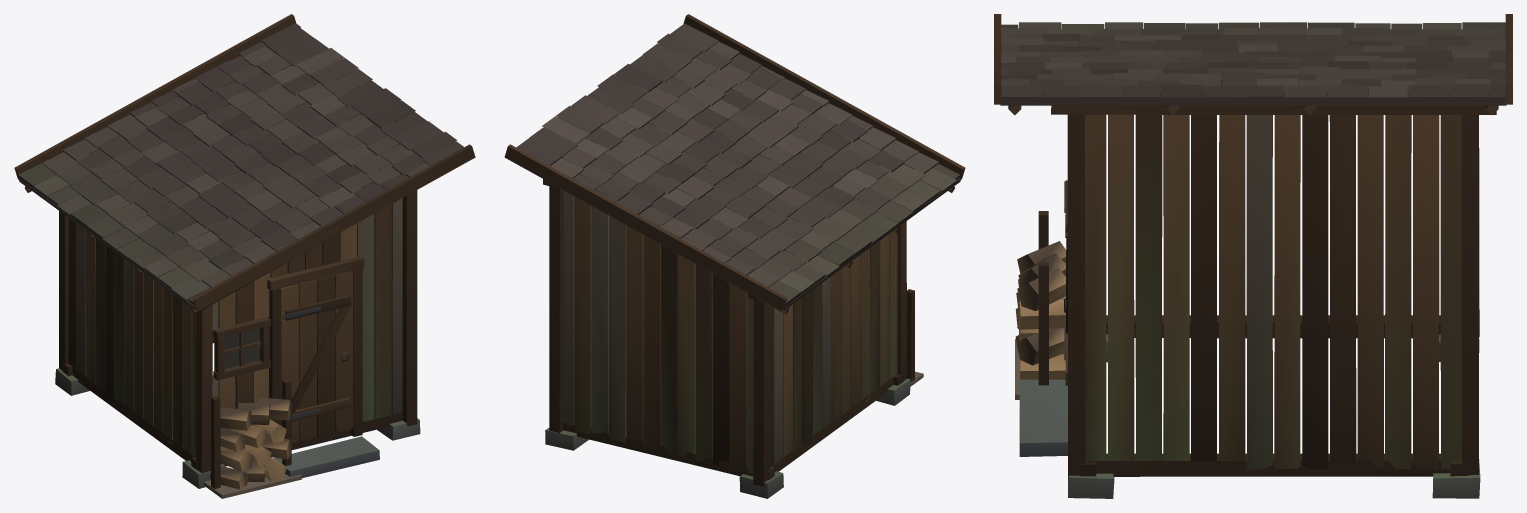
Rendered from ph_bld_shed_l1.glb.
3 views of the same model, side by side, from view 1: azimuth 30°, elevation 25°; view 2: azimuth 150°, elevation 25°; view 3: azimuth 270°, elevation 25° (orthographic). The views are drawn at different scales.
Parts seen in each view (by area): view 1: ph_bld_shed_l1; view 2: ph_bld_shed_l1; view 3: ph_bld_shed_l1.
Part boxes in pixels (x1,y1,x2,y2): ph_bld_shed_l1: (14,14,475,498); ph_bld_shed_l1: (504,14,965,498); ph_bld_shed_l1: (994,14,1512,498).
Bounding box in the file's own units: 3.25 × 3.32 × 3.61.
